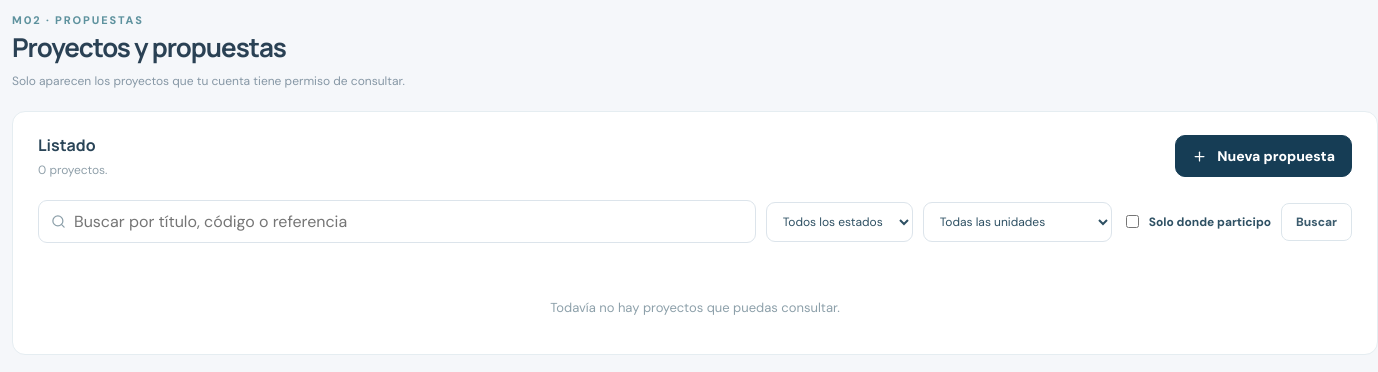
it: ProjectsPage: listado › distingue «sin resultados» de «sin proyectos»
Expected: the text "Todavía no hay proyectos que puedas consultar." is shown, [550,299,840,316]
Select "Aprobada" in the dropdown named "Filtrar por estado de propuesta": (839, 222) [766,202,913,242]
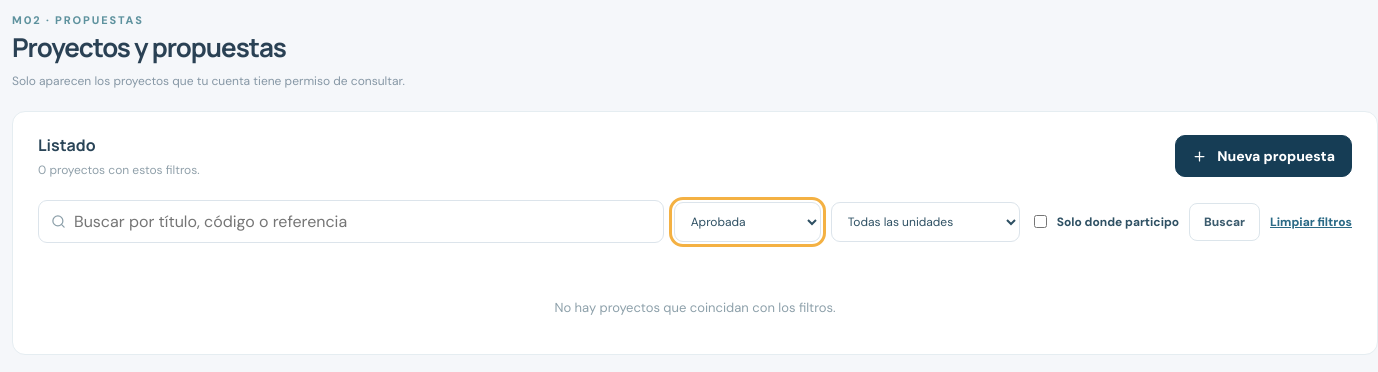
Expected: the text "No hay proyectos que coincidan con los filtros." is shown, [554,299,836,316]
